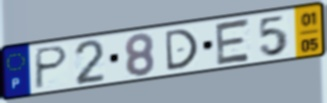2: (72, 38, 107, 87)
5: (258, 13, 292, 58)
8: (123, 31, 157, 78)
D: (163, 27, 200, 73)
E: (214, 16, 253, 67)
P: (33, 44, 71, 91)
